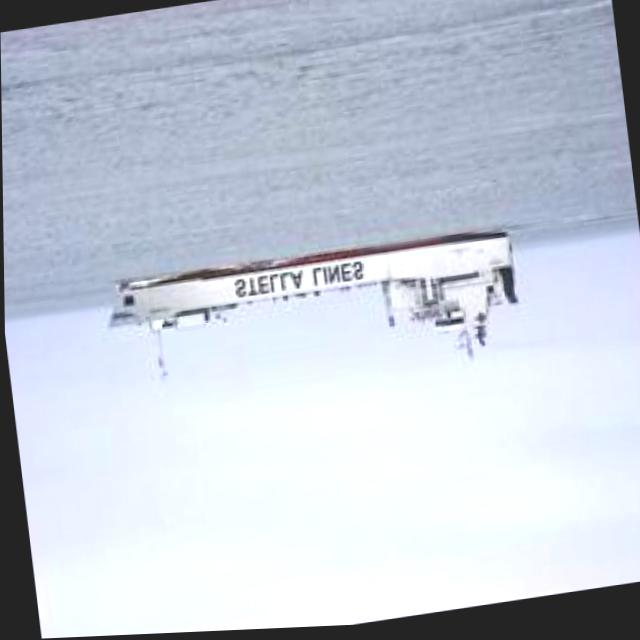ship2: (104, 229, 520, 383)
